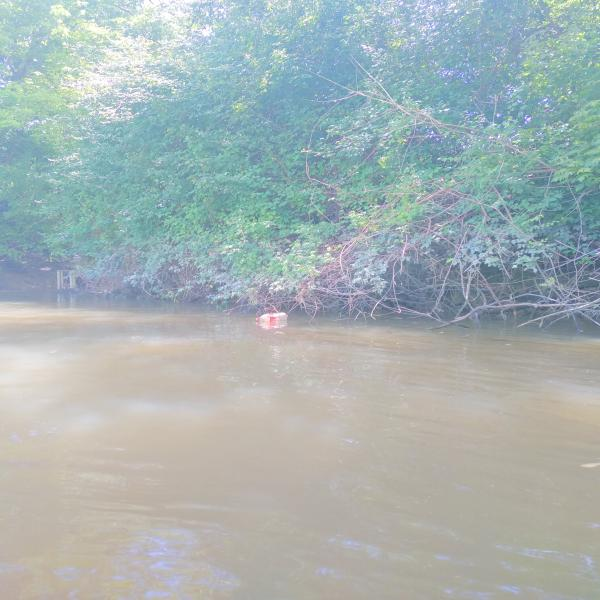bottles: (250, 311, 290, 325)
